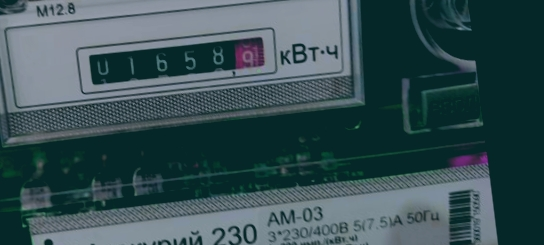0: (95, 55, 110, 78)
1: (125, 54, 137, 77)
5: (182, 48, 198, 72)
6: (153, 50, 169, 74)
8: (209, 43, 226, 67)
9: (238, 49, 255, 72)
screen: (69, 18, 287, 104)
